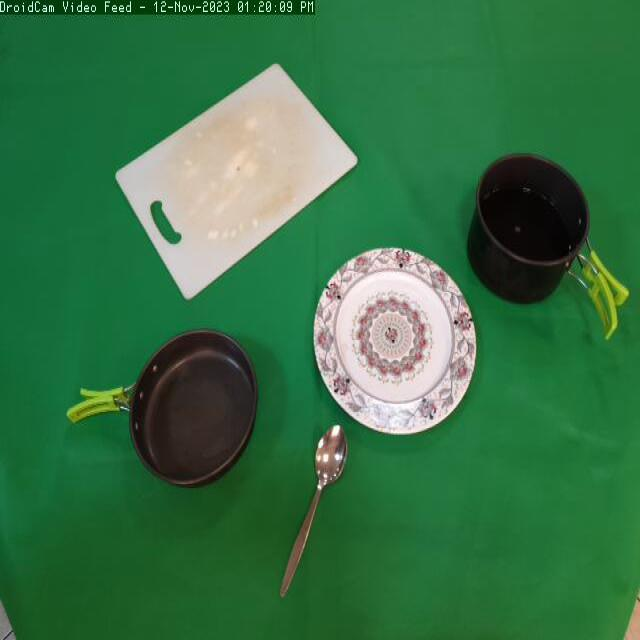cutting board: (113, 58, 368, 302)
fullpot: (463, 146, 639, 342)
pan: (55, 326, 264, 502)
plate: (312, 243, 485, 450)
spoon: (276, 419, 358, 602)
